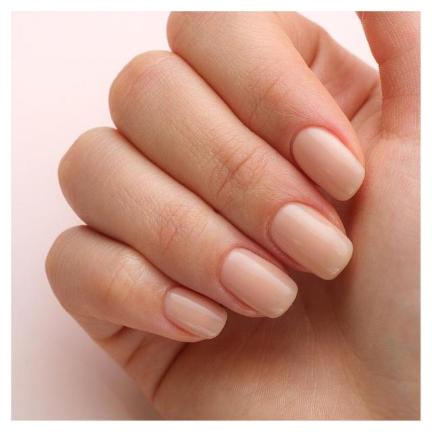Nail: (268, 202, 353, 280), (220, 247, 298, 318), (291, 127, 364, 201), (163, 287, 227, 339)
